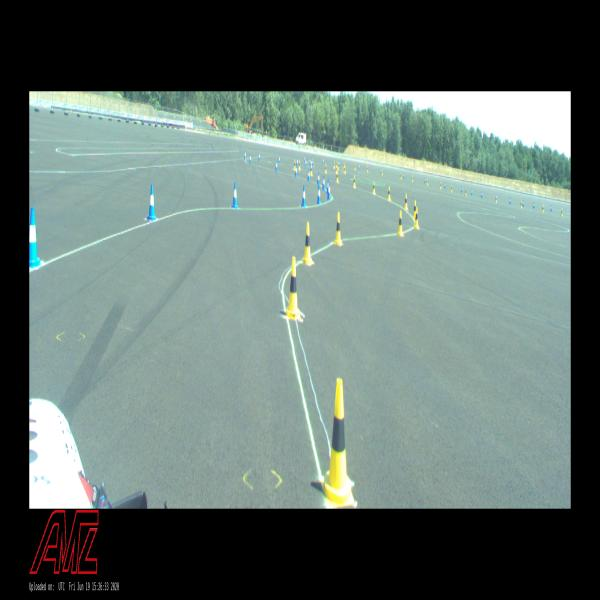blue_cone: (29, 207, 42, 268), (147, 184, 156, 221), (232, 182, 238, 208), (301, 185, 306, 207), (317, 185, 320, 204), (327, 182, 330, 200), (294, 165, 298, 177), (326, 178, 329, 194), (322, 176, 325, 190), (317, 172, 320, 184), (275, 161, 278, 172), (308, 169, 310, 181), (244, 150, 246, 160), (278, 155, 280, 164), (304, 158, 306, 167), (258, 152, 260, 160), (533, 202, 535, 209), (550, 205, 552, 212), (509, 198, 511, 204), (522, 201, 524, 207), (380, 168, 382, 174), (250, 153, 251, 164), (424, 178, 426, 183), (444, 183, 446, 188), (297, 158, 298, 166), (312, 158, 313, 166), (310, 158, 311, 165), (461, 186, 462, 193), (471, 189, 472, 196), (481, 191, 482, 198), (304, 156, 305, 162), (359, 164, 360, 170), (311, 160, 312, 166), (323, 159, 324, 164), (403, 174, 404, 179), (340, 161, 340, 166)
yellow_cone: (322, 379, 354, 505), (286, 256, 301, 319), (303, 222, 312, 264), (334, 212, 342, 245), (397, 210, 403, 235), (414, 208, 419, 228), (404, 194, 408, 209), (413, 200, 416, 218), (388, 187, 391, 200), (372, 181, 375, 194), (353, 176, 356, 187), (336, 171, 339, 182), (293, 160, 296, 170), (310, 166, 313, 176), (464, 189, 467, 196), (299, 160, 301, 170), (426, 179, 429, 185), (325, 164, 327, 173), (439, 183, 442, 189), (344, 165, 346, 173), (335, 165, 337, 173), (561, 209, 563, 216), (450, 185, 452, 192), (542, 205, 544, 212), (520, 201, 522, 208), (495, 196, 497, 203), (336, 161, 338, 168), (337, 163, 339, 170), (354, 164, 356, 170), (334, 161, 335, 169), (400, 174, 402, 178), (381, 170, 383, 174), (343, 162, 344, 169), (412, 175, 413, 182), (367, 166, 368, 172)
